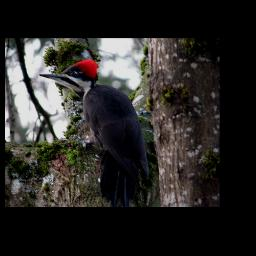Woodpecker: (37, 58, 154, 203)
